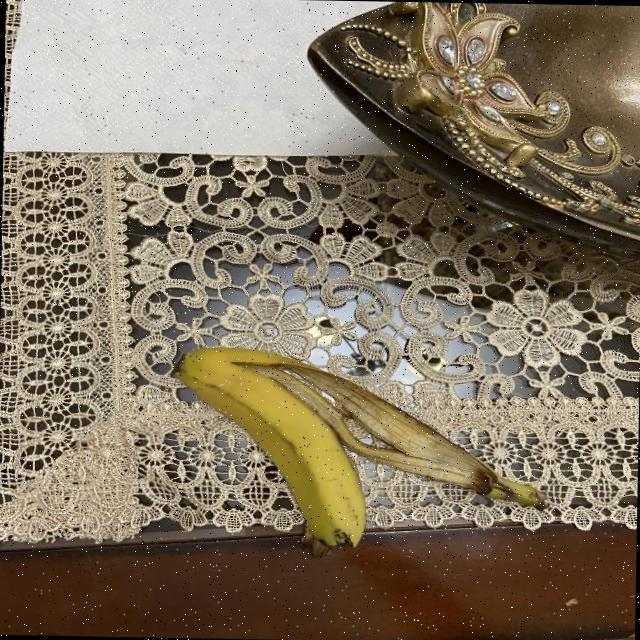banana-peel: (166, 342, 550, 560)
